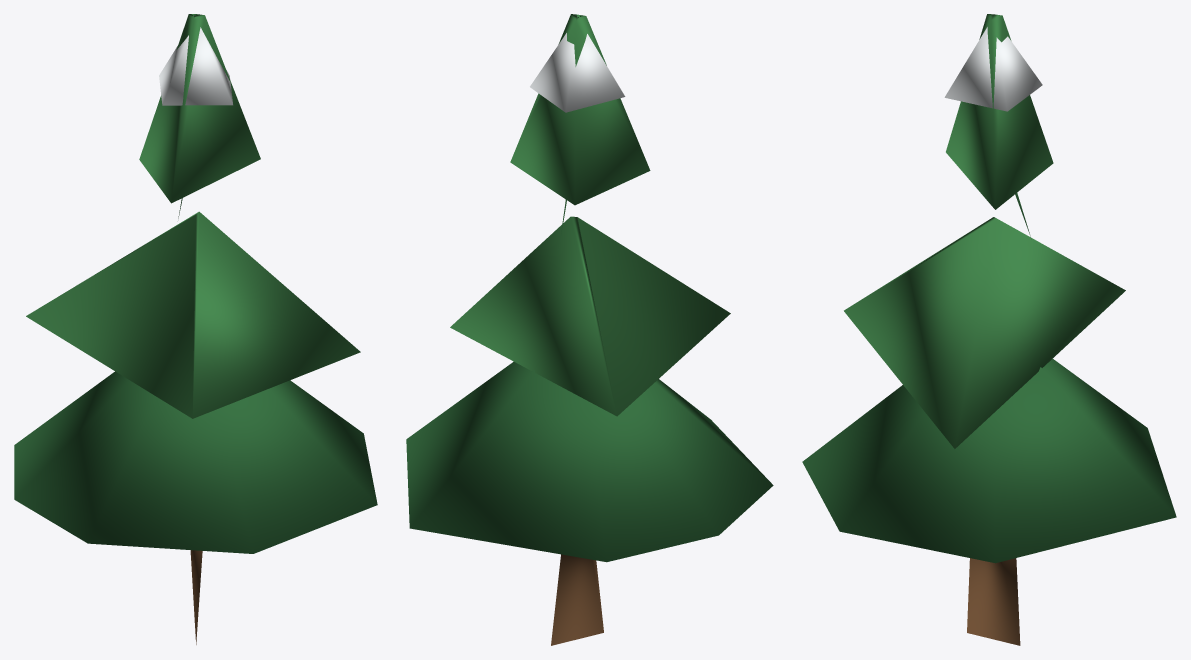
File: prop_tree_conifer_1_far.glb
3 renders of one model, left to right at view 1: azimuth 30°, elevation 25°; view 2: azimuth 150°, elevation 25°; view 3: azimuth 270°, elevation 25°, orthographic.
Parts seen in each view (by area): view 1: Tier0, Tier1, Tier3, SnowCap, Trunk; view 2: Tier0, Tier1, Tier3, SnowCap, Trunk; view 3: Tier0, Tier1, Tier3, SnowCap, Trunk.
Part boxes in pixels (bbox=[...]): Tier0: bbox=[14, 371, 377, 553]; Tier1: bbox=[26, 211, 360, 418]; Tier3: bbox=[139, 14, 260, 203]; SnowCap: bbox=[159, 27, 232, 105]; Trunk: bbox=[190, 550, 202, 644]; Tier0: bbox=[406, 361, 773, 562]; Tier1: bbox=[450, 216, 730, 416]; Tier3: bbox=[510, 14, 650, 205]; SnowCap: bbox=[530, 33, 625, 112]; Trunk: bbox=[551, 554, 603, 645]; Tier0: bbox=[802, 358, 1176, 563]; Tier1: bbox=[844, 217, 1125, 448]; Tier3: bbox=[946, 14, 1053, 209]; SnowCap: bbox=[944, 27, 1042, 111]; Trunk: bbox=[967, 558, 1020, 645].
Bounding box in the file's own units: 3.53 × 6.33 × 3.44.
